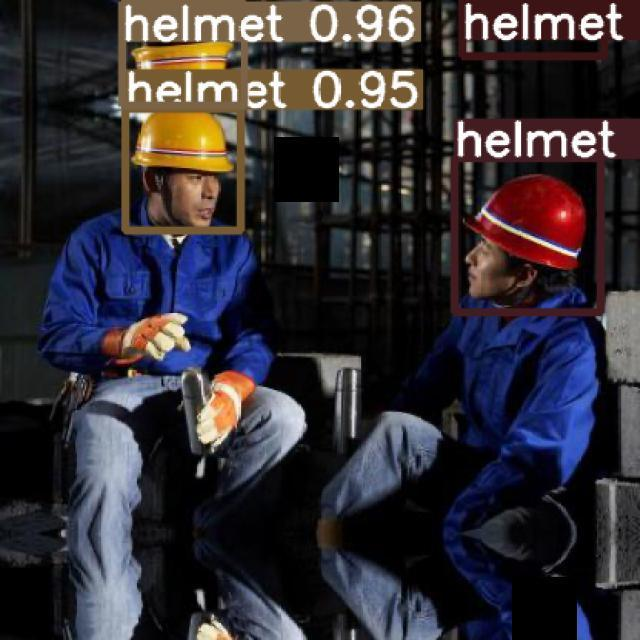helmet: (462, 173, 586, 270), (130, 111, 235, 173)
